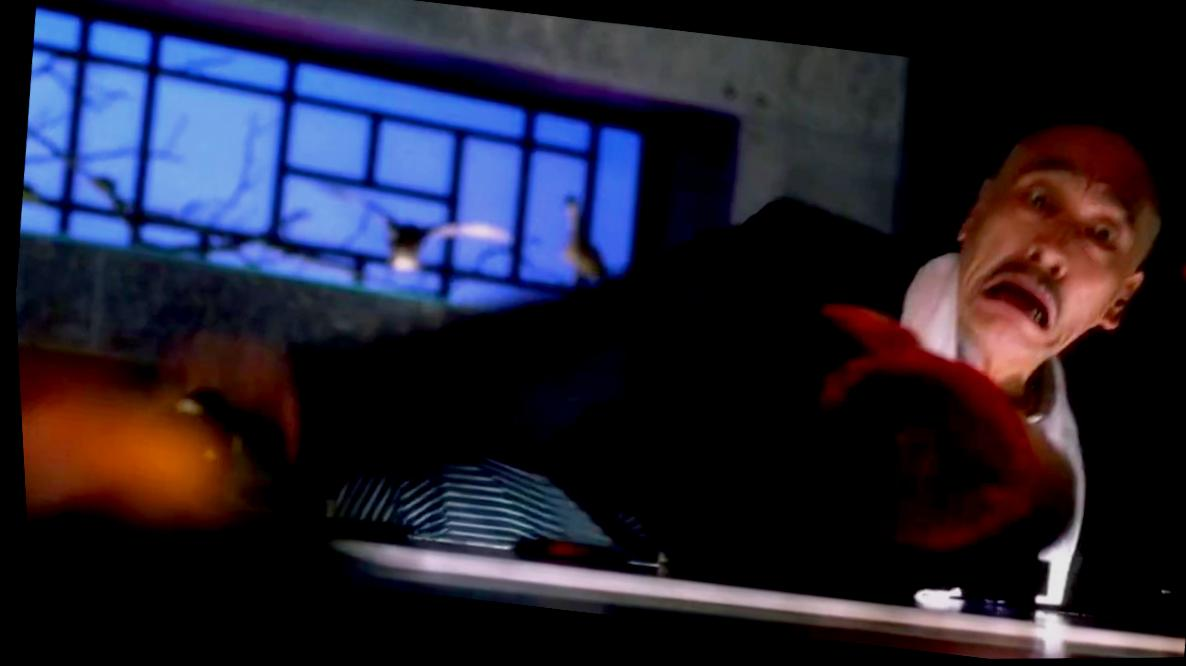Fire: (791, 310, 1033, 563)
